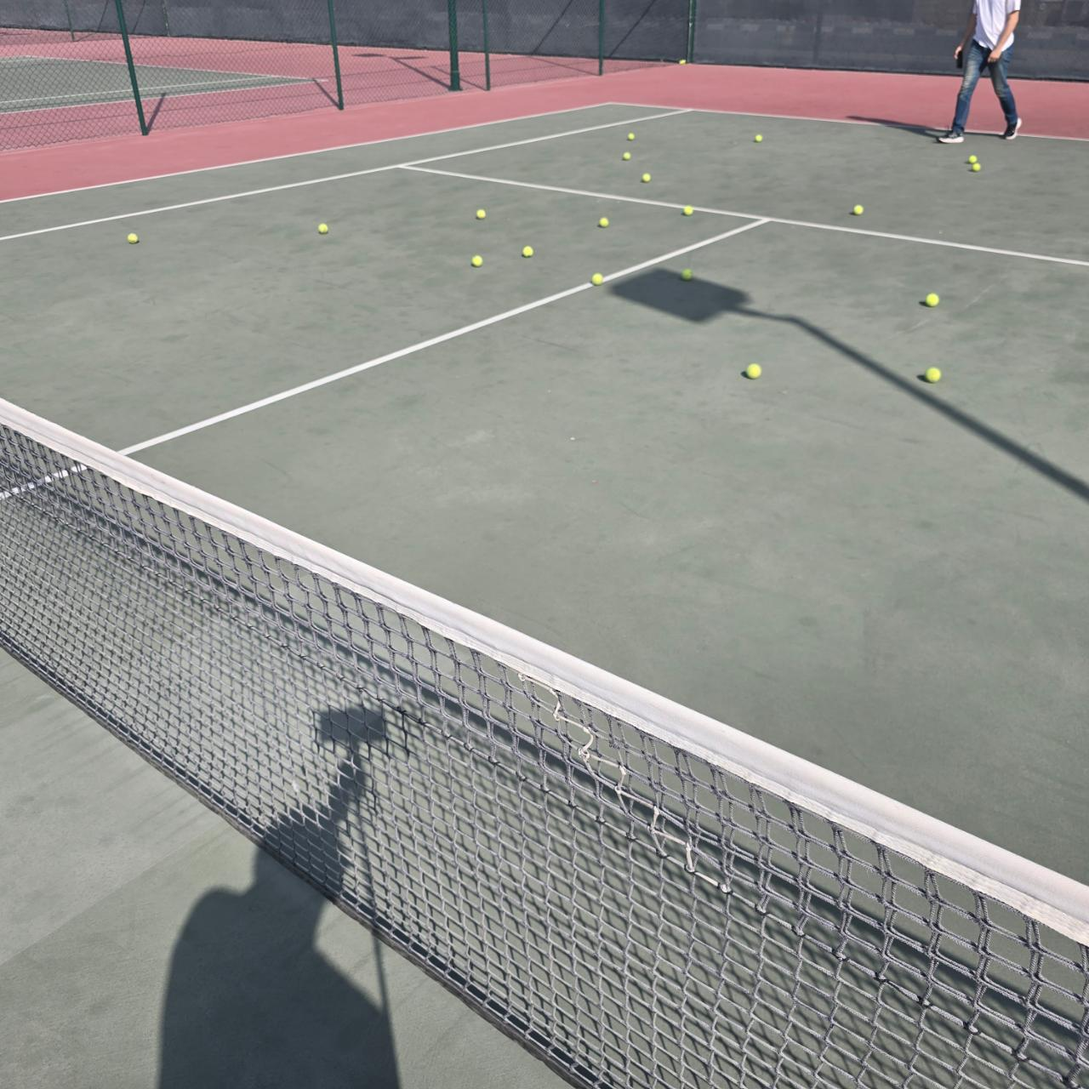tennis-ball: (744, 361, 761, 379), (925, 364, 941, 382), (925, 290, 939, 306), (590, 271, 603, 286), (125, 231, 139, 244), (470, 253, 483, 267), (681, 267, 693, 282), (474, 207, 486, 220), (316, 221, 328, 234), (522, 246, 534, 259), (683, 205, 695, 216), (854, 204, 865, 216), (599, 217, 610, 228), (641, 173, 652, 183), (622, 152, 632, 161), (968, 154, 977, 164), (972, 163, 982, 172), (627, 133, 635, 141), (755, 135, 763, 142), (680, 60, 685, 64)
